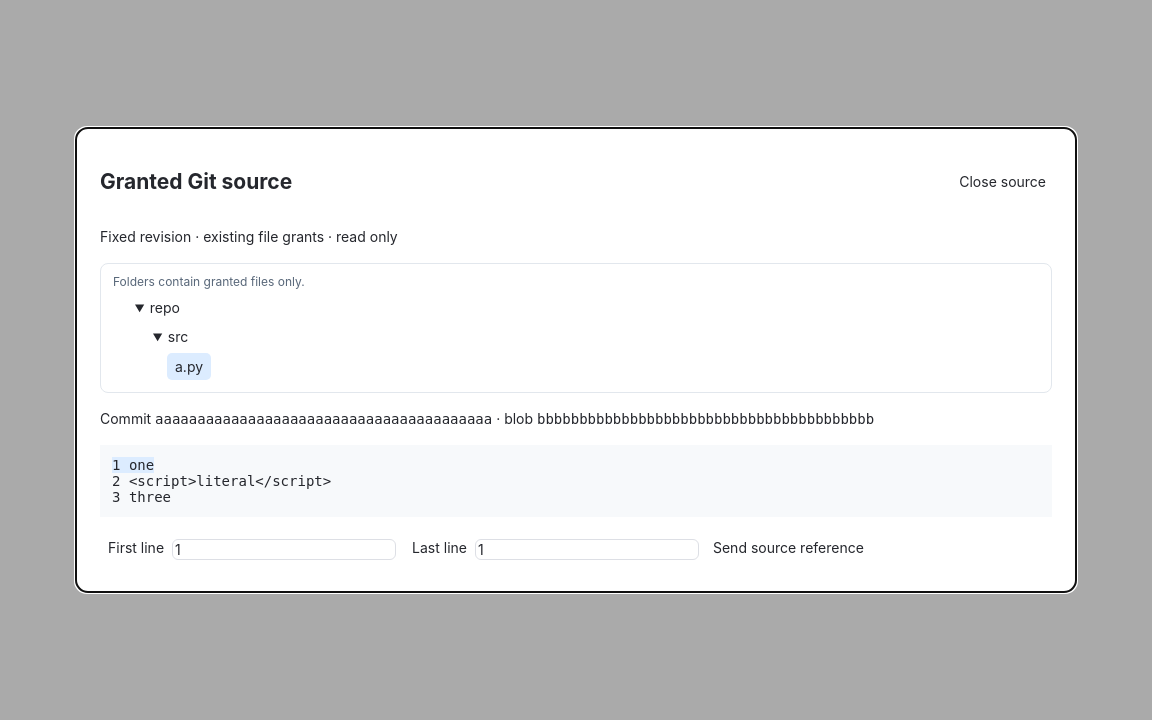
keeps the same source content and transaction after an unknown response
This screenshot has width=1152, height=720.
Expected: the text "<script>literal</script>" is shown, [129,473,331,489]
Step 1. Click the button "Send source reference" → x=788, y=548, box [707,538,870,557]
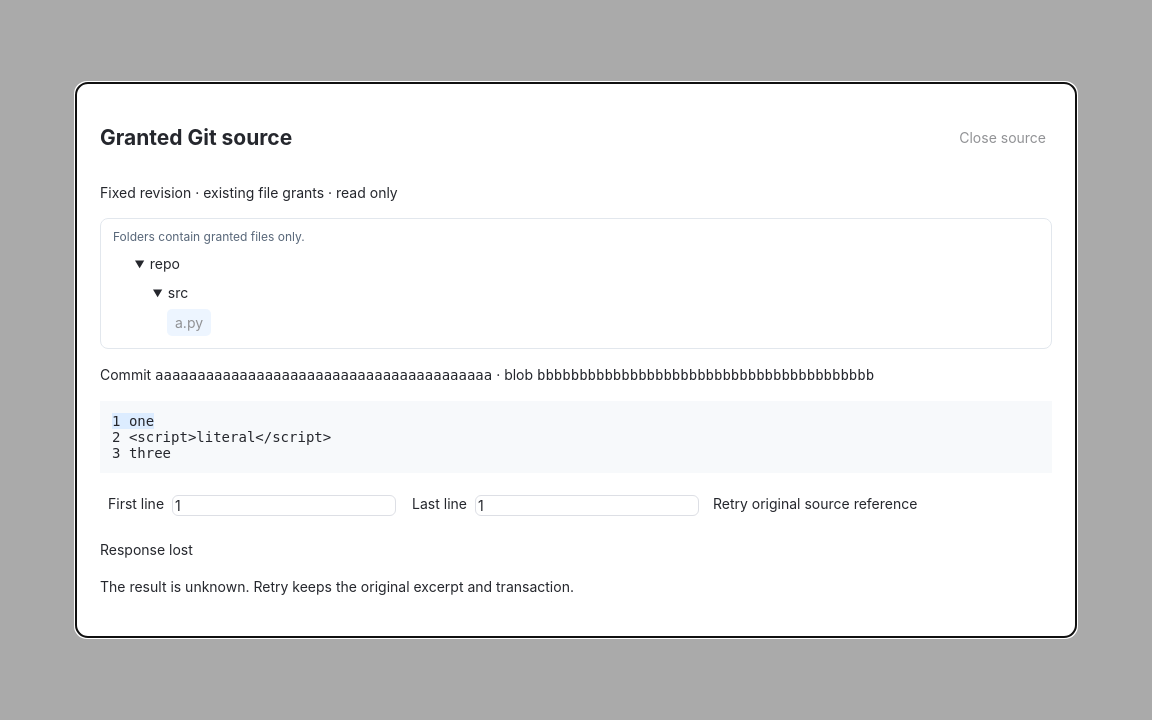
Expected: the message "Response lost" is shown, [100,541,193,558]
Expected: the number field labelled "First line" is disabled, [172,495,396,516]
Expected: the button "Close source" is disabled, [953,108,1052,167]
Step 2. Click the button "Retry original source reference" → x=815, y=504, box [707,494,923,513]
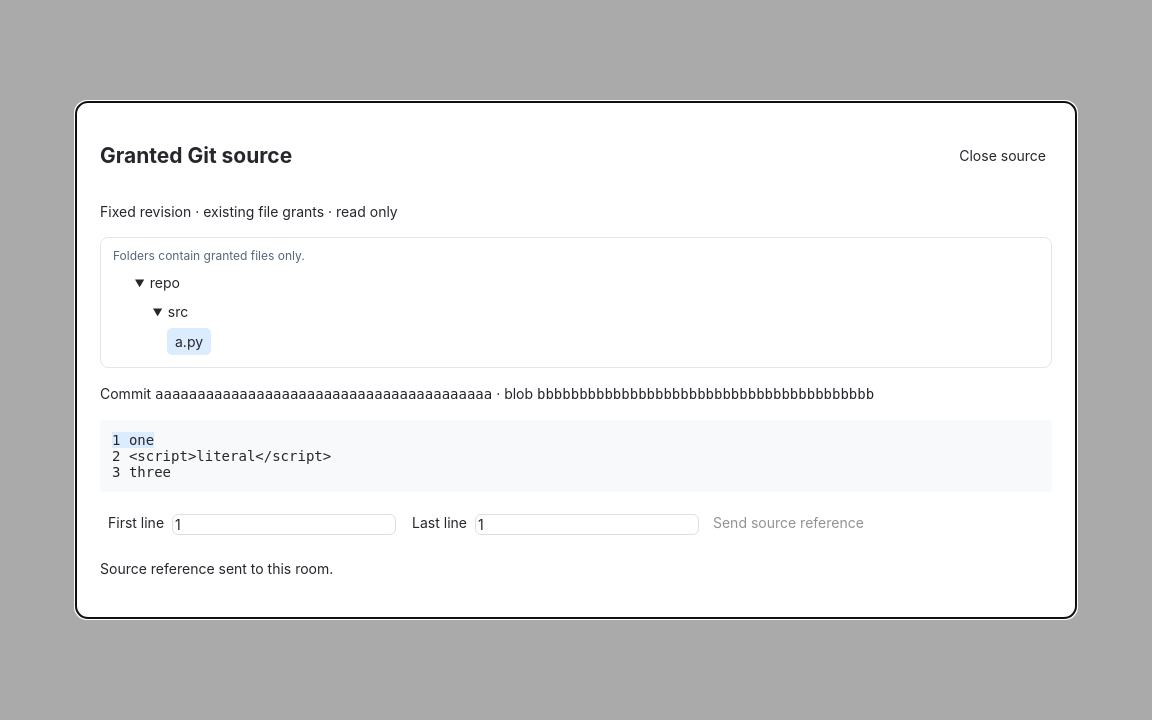
Expected: the text "Source reference sent to this room." is shown, [100,560,333,577]
